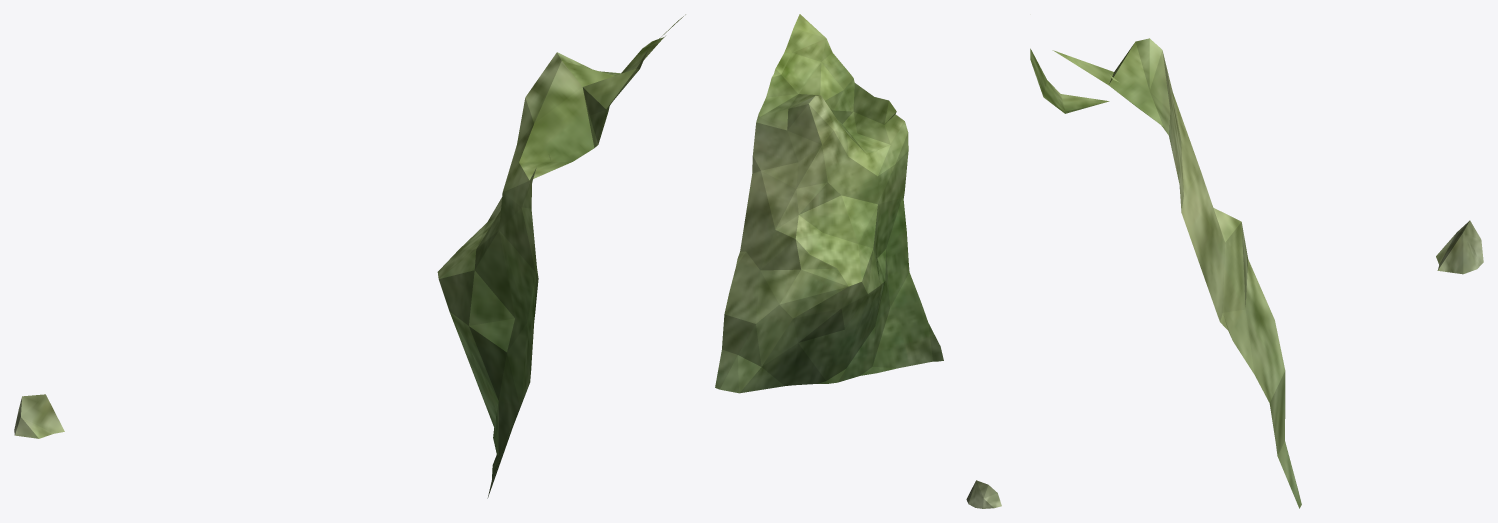
3 views of the same model, side by side, from view 1: azimuth 30°, elevation 25°; view 2: azimuth 150°, elevation 25°; view 3: azimuth 270°, elevation 25° (orthographic). The views are drawn at different scales.
Size of the model in its own units: 3.72 by 3.29 by 2.73.
Materials: 1 (1 with a texture image).
